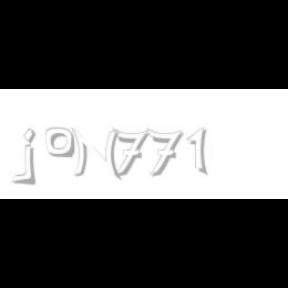1: (186, 128, 208, 176)
7: (112, 128, 150, 178), (146, 128, 183, 178)
N: (70, 128, 120, 180)
j: (20, 128, 50, 186)
o: (46, 128, 74, 158)
